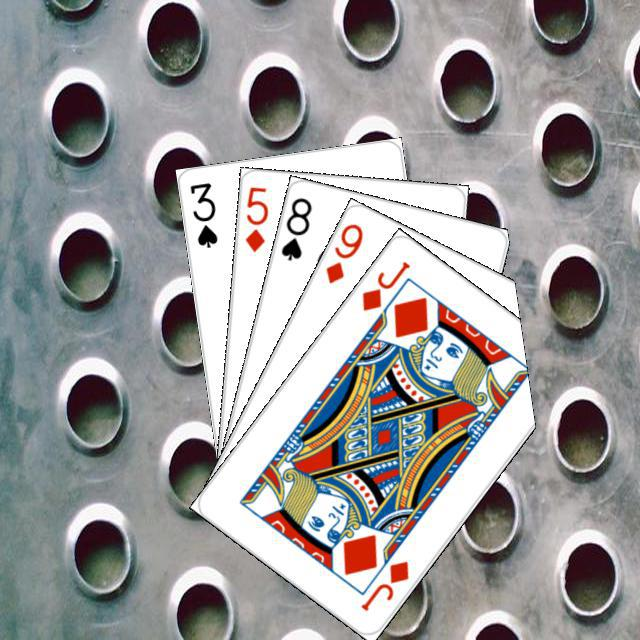3s: (185, 178, 220, 250)
5d: (240, 181, 270, 254)
8s: (276, 192, 314, 262)
9d: (320, 218, 365, 286)
Jd: (356, 256, 413, 313), (355, 555, 411, 613)
